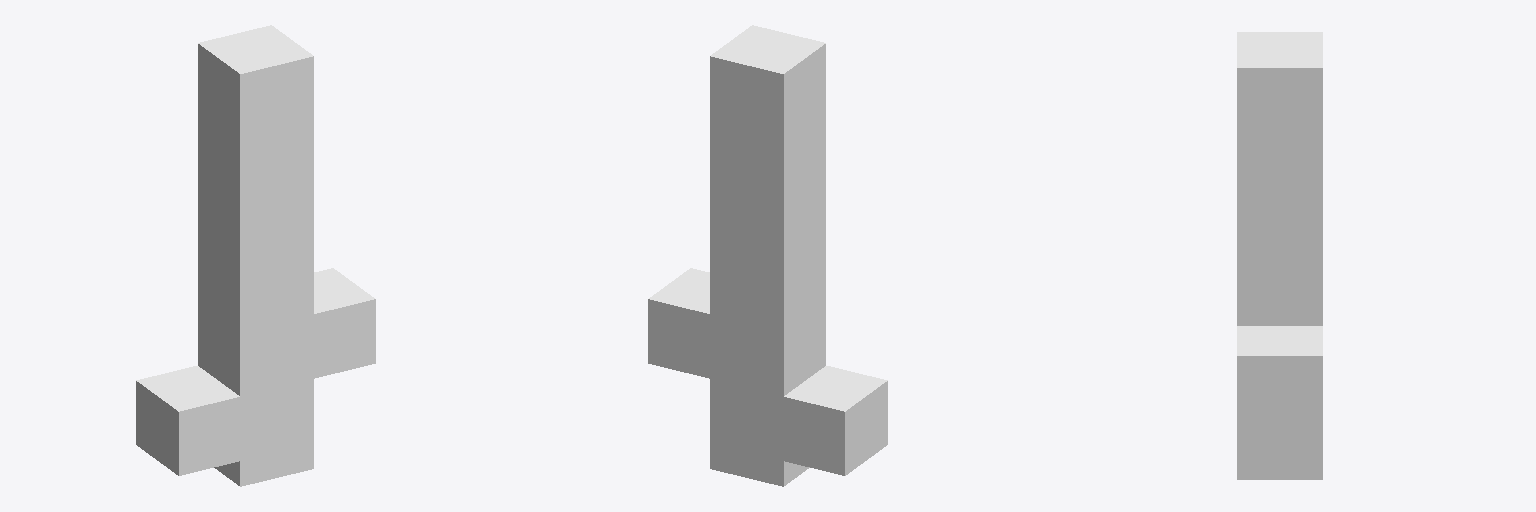
Rendered from enemybullet-0-4.obj.
3 views of the same model, side by side, from view 1: azimuth 30°, elevation 25°; view 2: azimuth 150°, elevation 25°; view 3: azimuth 270°, elevation 25° (orthographic).
Visible parts, largest first — view 1: 4; view 2: 4; view 3: 4.
Part boxes in pixels (x1,y1,x2,y2): 4: (136, 25, 375, 486); 4: (648, 25, 887, 486); 4: (1237, 32, 1322, 479).
Size of the model in its own units: 1.6 by 3.2 by 0.6.